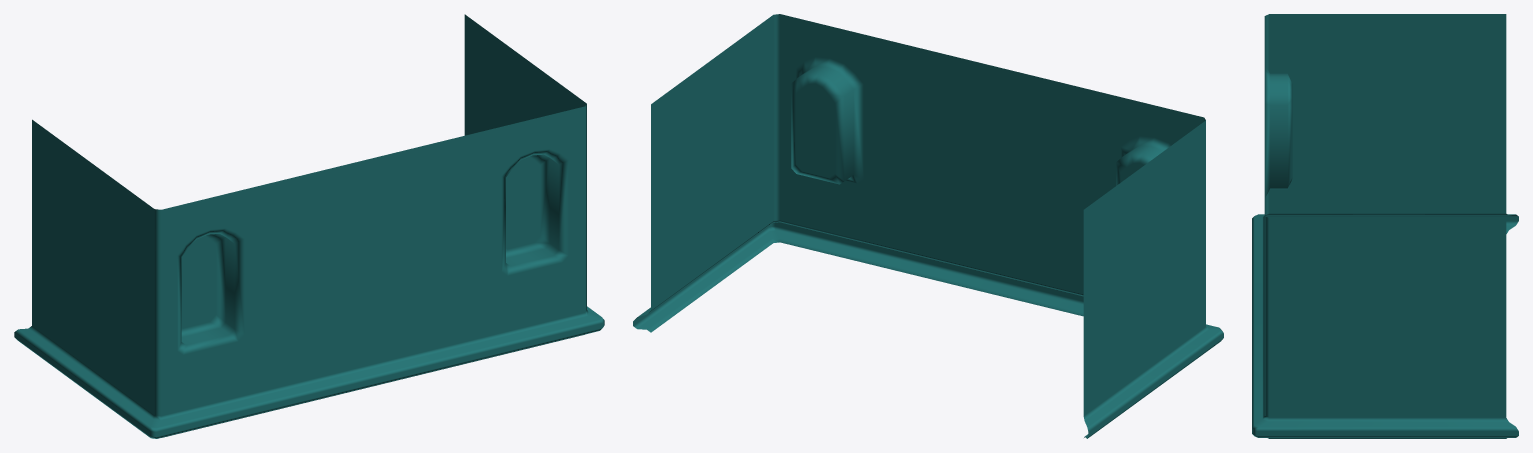
Rendered from SM_Building_Middle_01.fbx.
3 views of the same model, side by side, from view 1: azimuth 30°, elevation 25°; view 2: azimuth 150°, elevation 25°; view 3: azimuth 270°, elevation 25° (orthographic). The views are drawn at different scales.
Parts seen in each view (by area): view 1: Object013; view 2: Object013; view 3: Object013.
Part boxes in pixels (x1,y1,x2,y2): Object013: [14, 14, 604, 438]; Object013: [633, 14, 1223, 438]; Object013: [1252, 14, 1518, 438].
Bounding box in the file's own units: 631 × 303 × 331.
